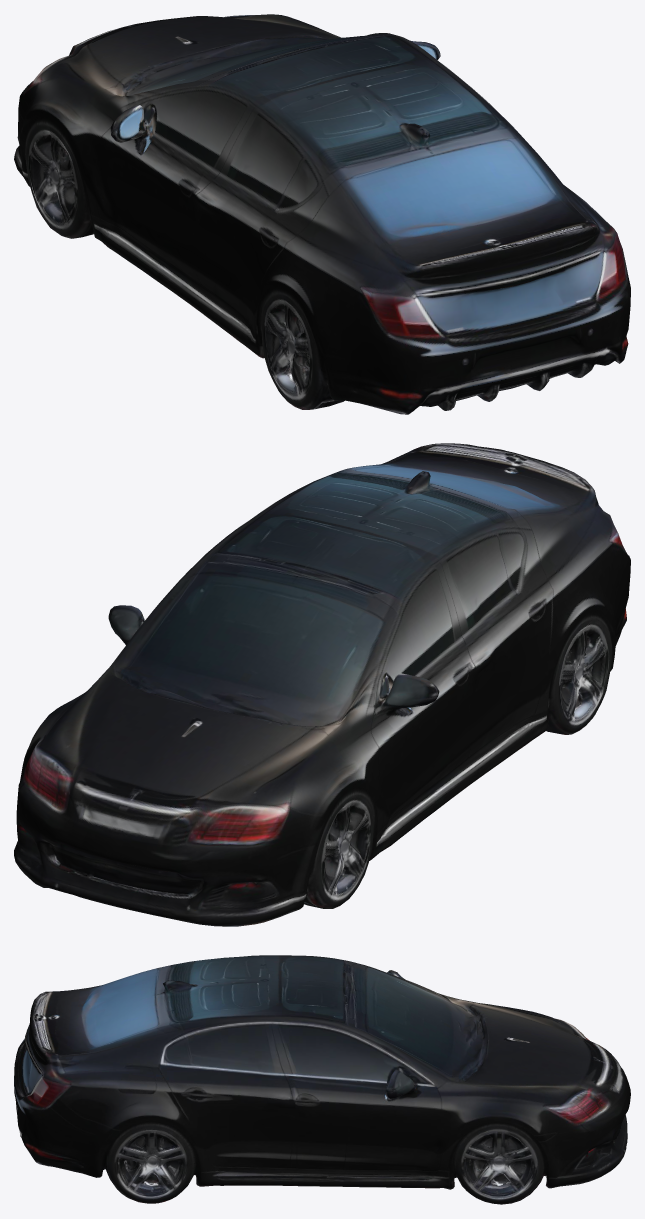
3 views of the same model, one above another, from view 1: azimuth 30°, elevation 25°; view 2: azimuth 150°, elevation 25°; view 3: azimuth 270°, elevation 25° (orthographic). The views are drawn at different scales.
Parts seen in each view (by area): view 1: Mesh1.0; view 2: Mesh1.0; view 3: Mesh1.0.
Part boxes in pixels (left/top/right/bottom): Mesh1.0: left=14, top=14, right=630, bottom=414; Mesh1.0: left=14, top=443, right=630, bottom=926; Mesh1.0: left=14, top=955, right=630, bottom=1204.
Bounding box in the file's own units: 91.47 × 62.58 × 201.
Materials: 1 (1 with a texture image).
